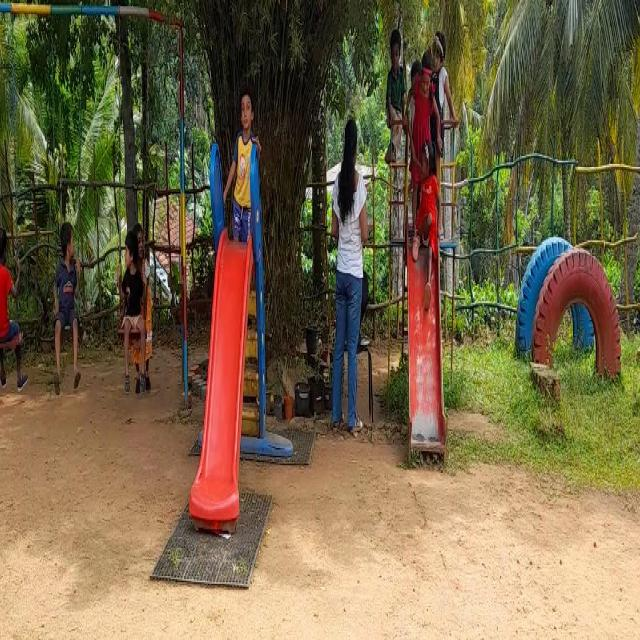adult: (331, 111, 371, 428)
child: (0, 202, 31, 390), (58, 197, 86, 386), (414, 143, 445, 297), (118, 230, 146, 376), (234, 83, 260, 240)
